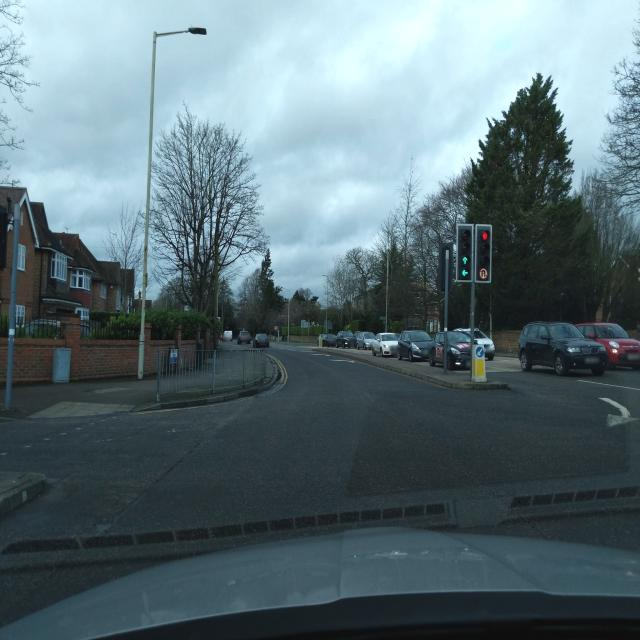car: (516, 320, 608, 377), (573, 322, 640, 371), (428, 330, 483, 370), (455, 328, 495, 362), (397, 329, 433, 362), (21, 318, 65, 338), (372, 332, 398, 357), (335, 330, 356, 348), (357, 332, 376, 350), (252, 333, 270, 349), (318, 333, 338, 347), (237, 330, 252, 345), (222, 330, 233, 341)
